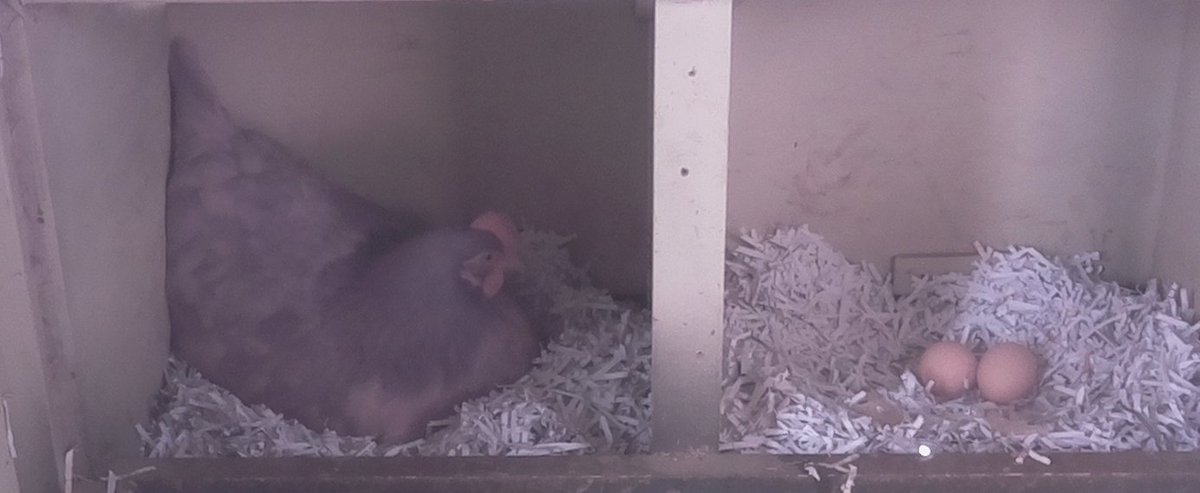egg: (971, 341, 1041, 406), (917, 337, 979, 404)
hen: (160, 37, 549, 448)
